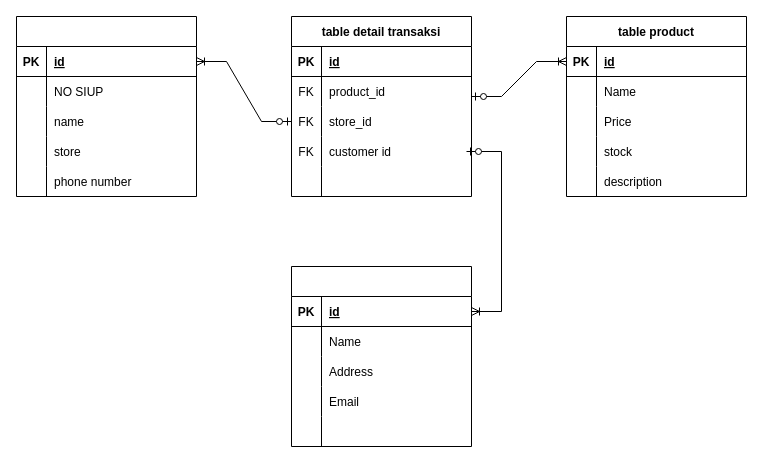
The diagram is 763 pixels wide and 463 high, and some of its shapes have lost their labels. The box of each missing label's shape, as (x1, y1, x2, y2) in pixels:
table customer: (290, 266, 472, 446)
table Store: (16, 16, 196, 196)
